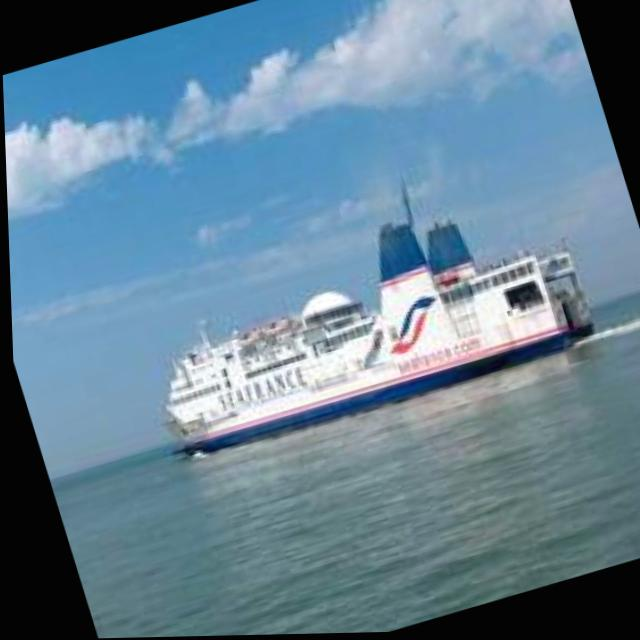ship2: (157, 175, 593, 460)
